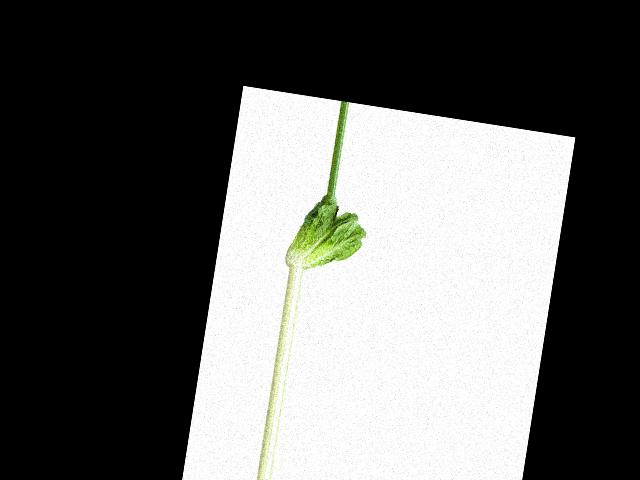lettuce: (283, 191, 371, 277)
